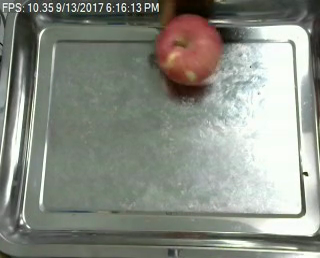Apple: (155, 12, 224, 87)
